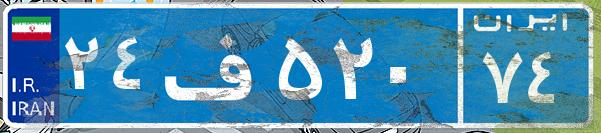0: (385, 28, 445, 110)
2: (330, 28, 385, 110), (57, 26, 110, 107)
4: (110, 28, 158, 105), (525, 38, 570, 115)
5: (273, 28, 330, 110)
7: (475, 38, 525, 113)
ف: (158, 15, 273, 115)
